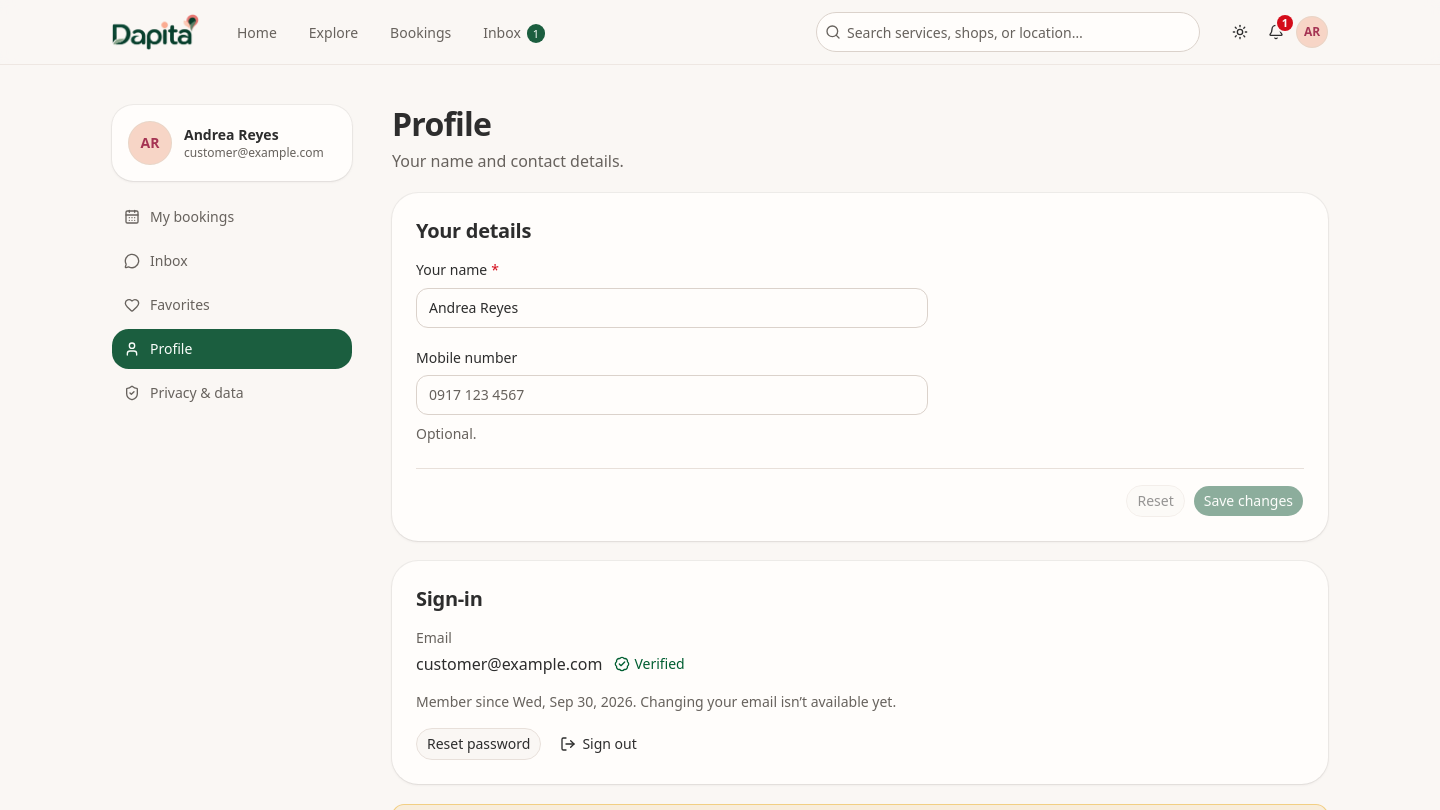
Test: customer account (CUS-06) › saves the profile and updates the name in the header
expect the button "Save changes" is disabled: met, box [1193,485,1304,517]
Replace the text in the field labelled "Your name *" with "Andrea Cruz" at [672, 308], box [416,288,928,328]
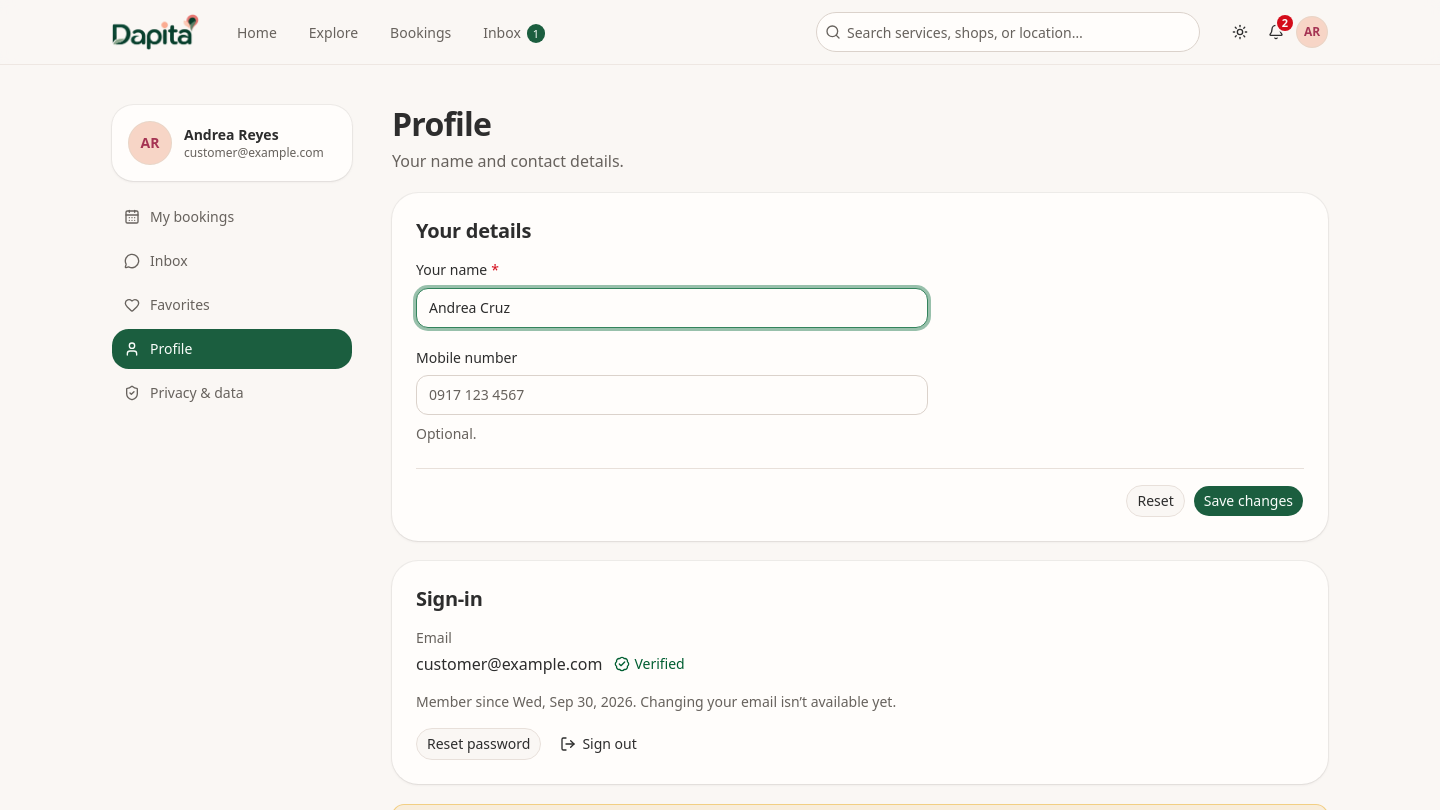
Click the button "Save changes" at [1248, 501], box [1193,485,1304,517]
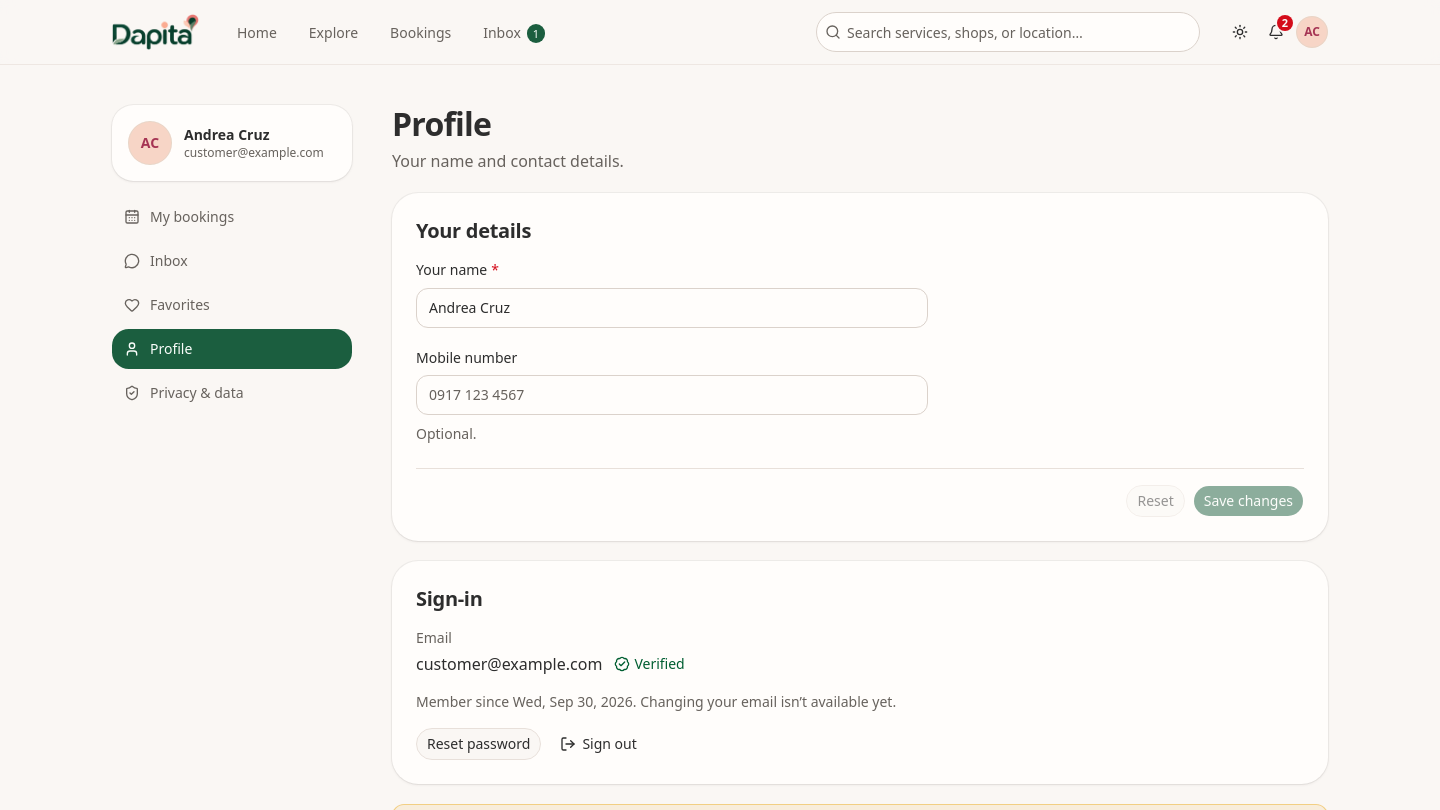
expect the button named "account menu for andrea cruz" is shown: met, box [1296,16,1328,48]
expect the button "Save changes" is disabled: met, box [1193,485,1304,517]
